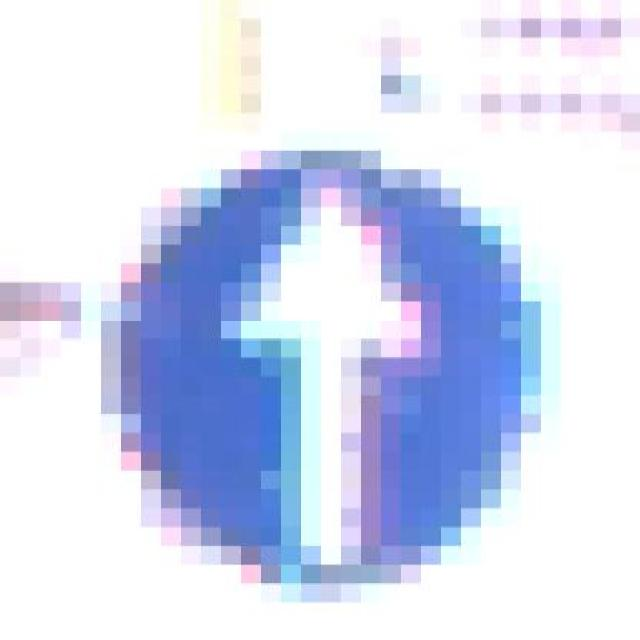Straight Ahead Only: (100, 113, 560, 602)
